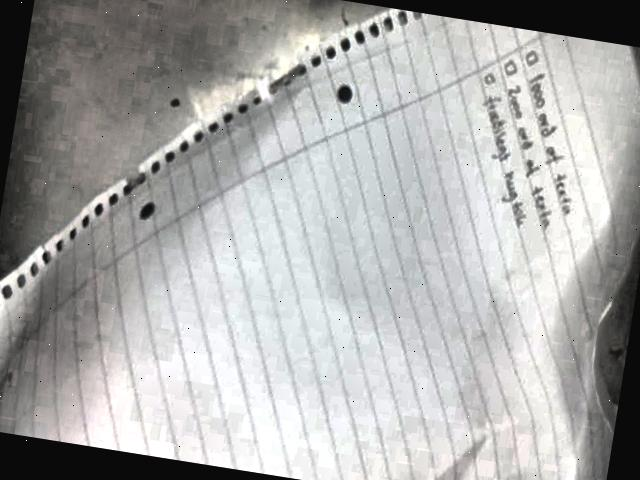Paper: (0, 9, 640, 480)
